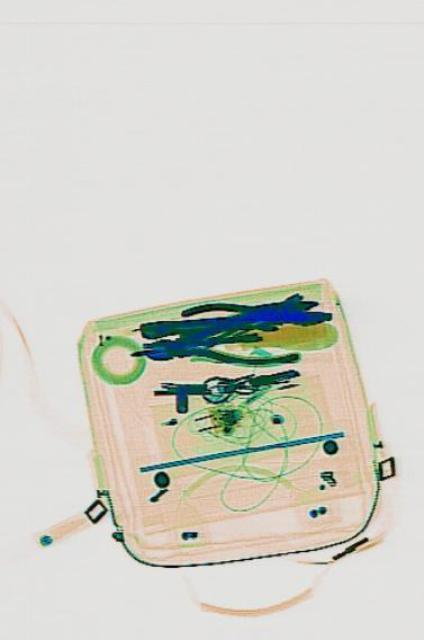Pliers: (140, 319, 298, 373), (177, 283, 319, 341)
